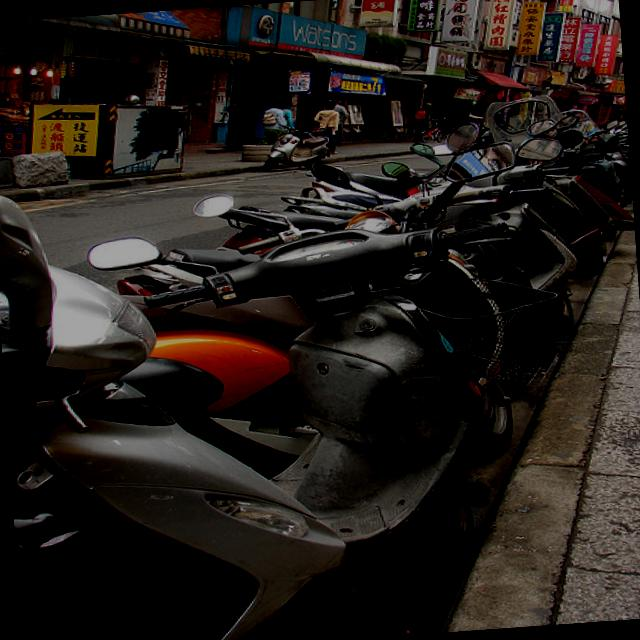Vehicle: (0, 93, 604, 640), (308, 133, 612, 294), (212, 181, 578, 313), (151, 294, 315, 434), (274, 144, 503, 223), (174, 180, 407, 254), (543, 162, 634, 235), (552, 136, 632, 212), (578, 126, 632, 204), (258, 120, 334, 172), (607, 120, 631, 180), (616, 140, 632, 190)
